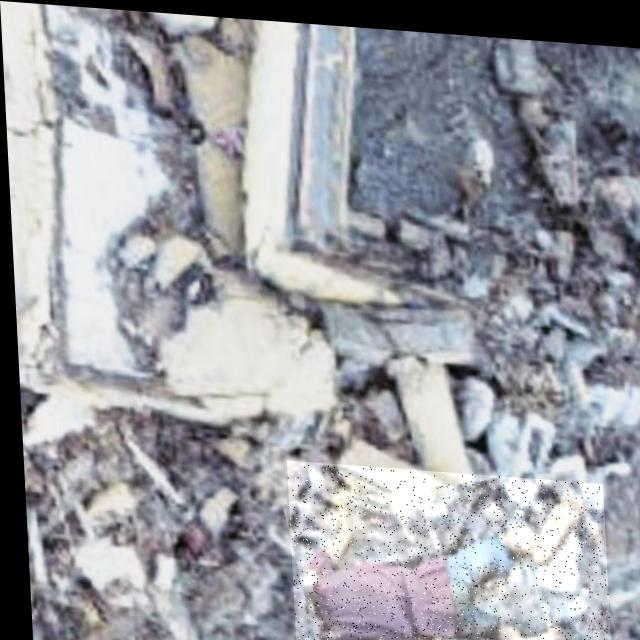Person in Rubble: (282, 455, 606, 640)
